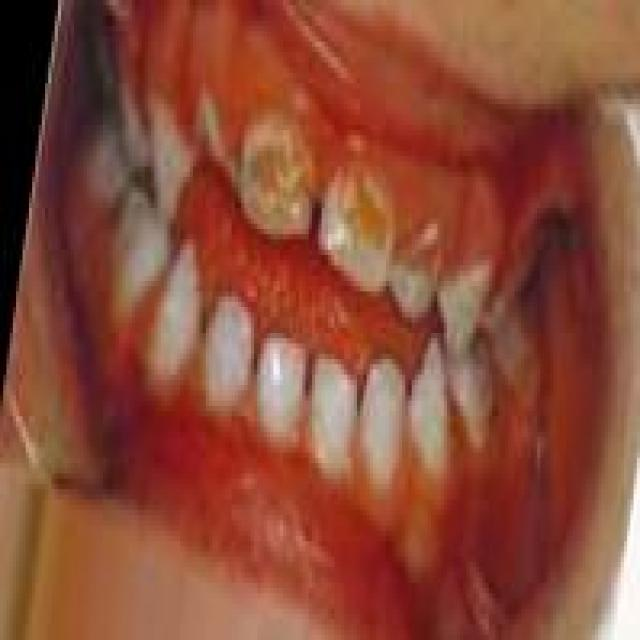caries: (233, 111, 314, 242), (317, 156, 395, 292), (400, 208, 452, 300)
